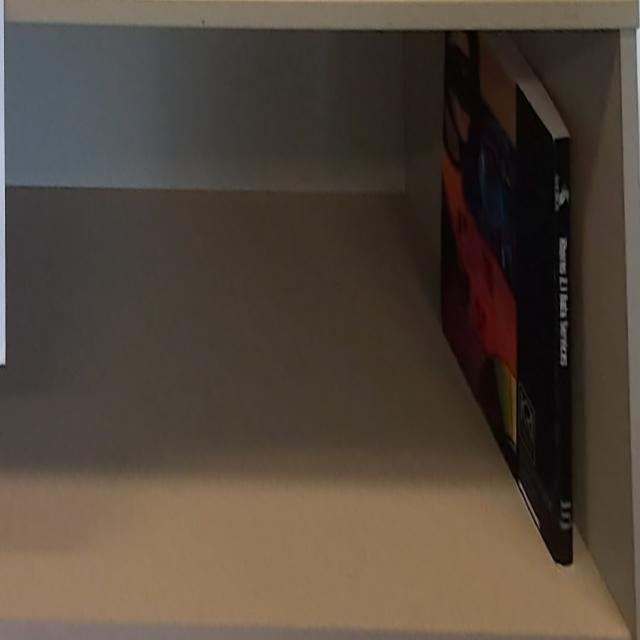Book Spine: (551, 136, 573, 577)
